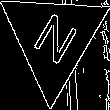N_SW: (26, 7, 81, 71)
